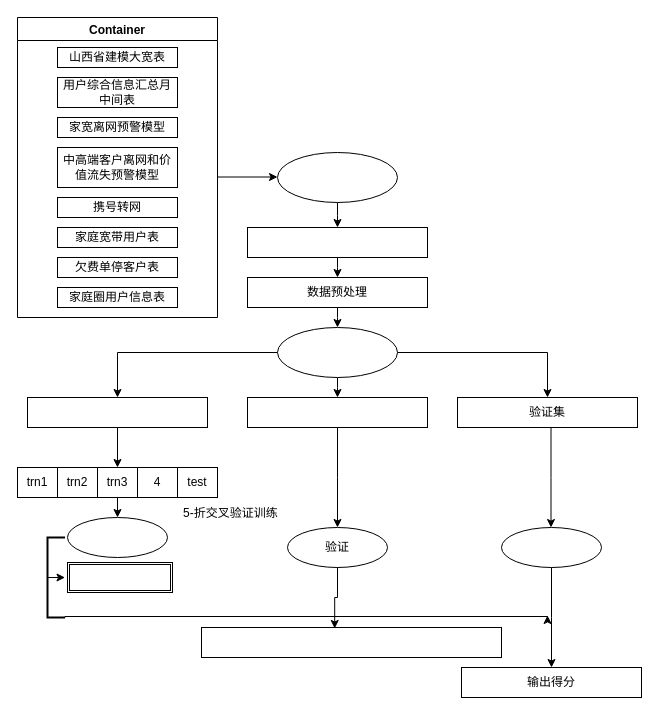
Some shapes in this 659 by 715 pixel diagram are drawn without their labels. Here are the shapes that lost their labels. From the top down, the box of each, then its label:
(276, 152, 398, 202): 汇总、合并
(246, 226, 428, 258): tb_dmr_jiakuan_olf_info_3_all
(276, 326, 398, 378): 抽样
(26, 396, 208, 428): 训练集
(246, 396, 428, 428): 测试集
(66, 516, 168, 558): RF
(500, 526, 602, 568): 评估
(66, 562, 172, 592): 模型规则
(200, 626, 502, 658): 输出结果:dmresult3.tb_dmr_gjmx_jk_lost_user_mon
